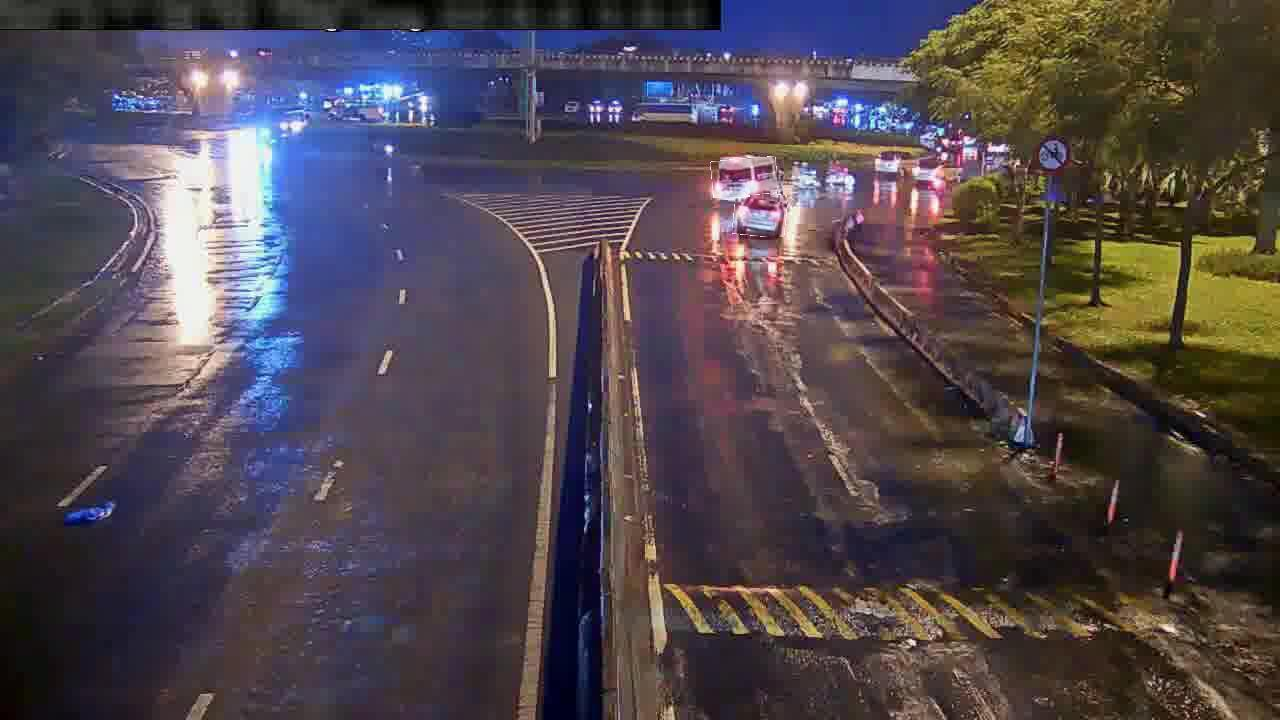14: (711, 158, 778, 198)
container: (733, 192, 787, 237)
